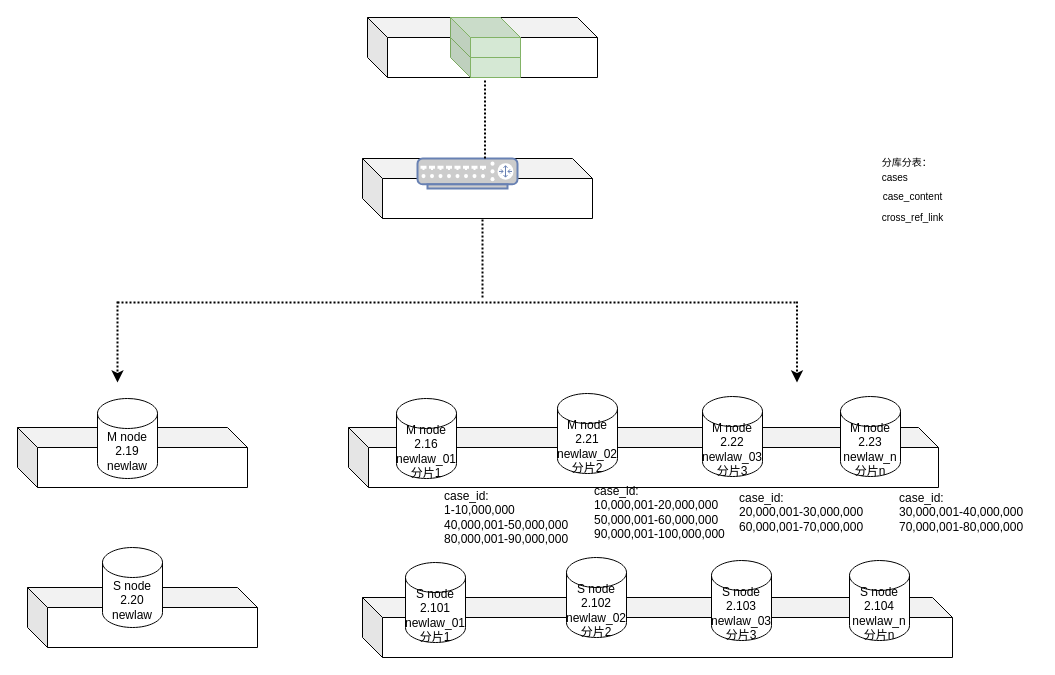
The diagram is 1055 pixels wide and 675 high, and some of its shapes have lost their labels. The shapes that lost their labels are listed below. From the top down, each one's centre as x and y in pixels, then its label:
At point 485,37: "APP".
At point 467,173: "Dble".
